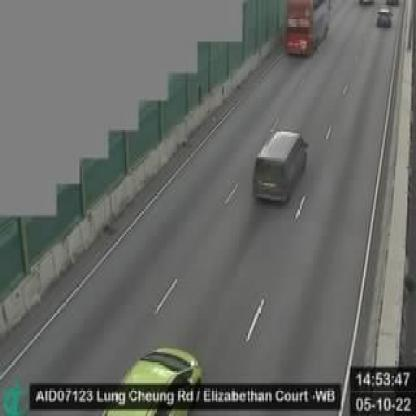Bus: (284, 2, 330, 57)
Car: (252, 130, 304, 199)
